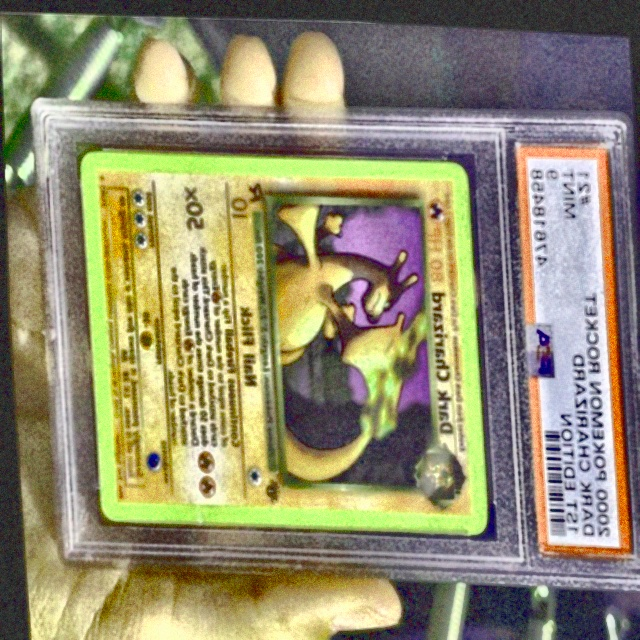card: (78, 147, 485, 530)
